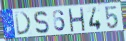4: (88, 6, 102, 31)
5: (104, 5, 120, 30)
6: (52, 10, 67, 33)
D: (14, 11, 33, 37)
H: (67, 8, 86, 32)
S: (33, 10, 50, 35)
